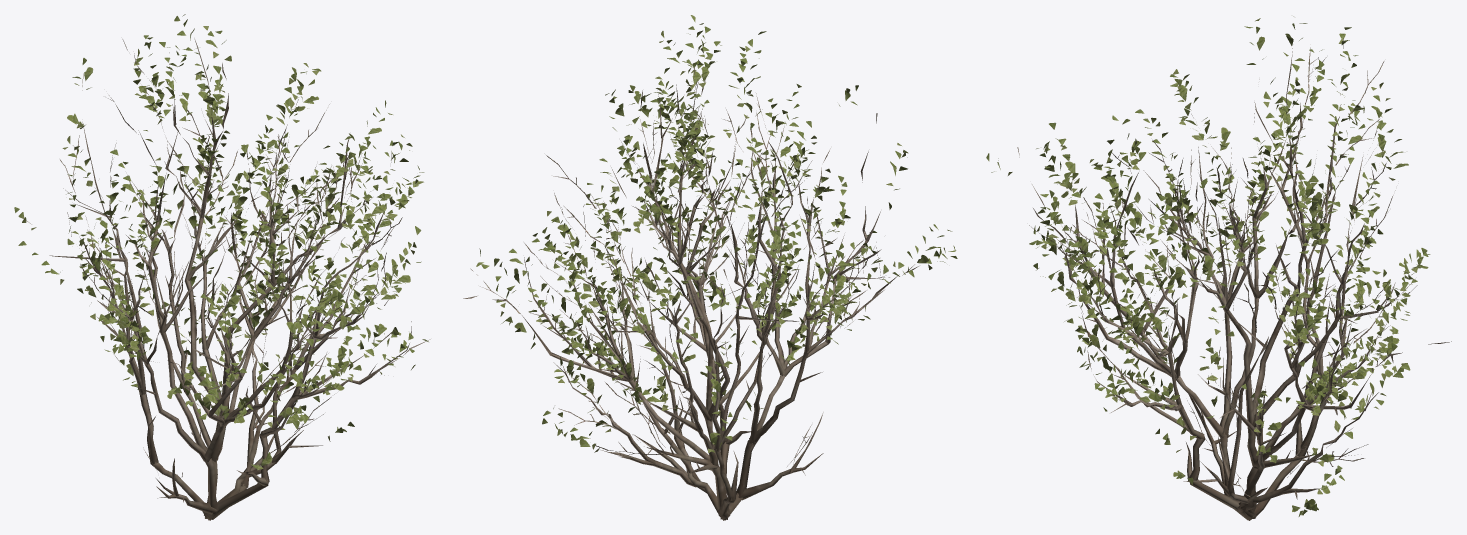
File: ph-searsia-lucida.lod1.glb
3 renders of one model, left to right at view 1: azimuth 30°, elevation 25°; view 2: azimuth 150°, elevation 25°; view 3: azimuth 270°, elevation 25°, orthographic. The views are drawn at different scales.
Parts seen in each view (by area): view 1: searsia_lucida_a_LOD0; view 2: searsia_lucida_a_LOD0; view 3: searsia_lucida_a_LOD0.
Part boxes in pixels (box(x1,y1,x2,y2)): searsia_lucida_a_LOD0: box(14, 14, 430, 520); searsia_lucida_a_LOD0: box(463, 15, 957, 520); searsia_lucida_a_LOD0: box(986, 16, 1451, 520).
Size of the model in its own units: 1.79 by 2.31 by 1.94.
Materials: 2 (2 with a texture image).
